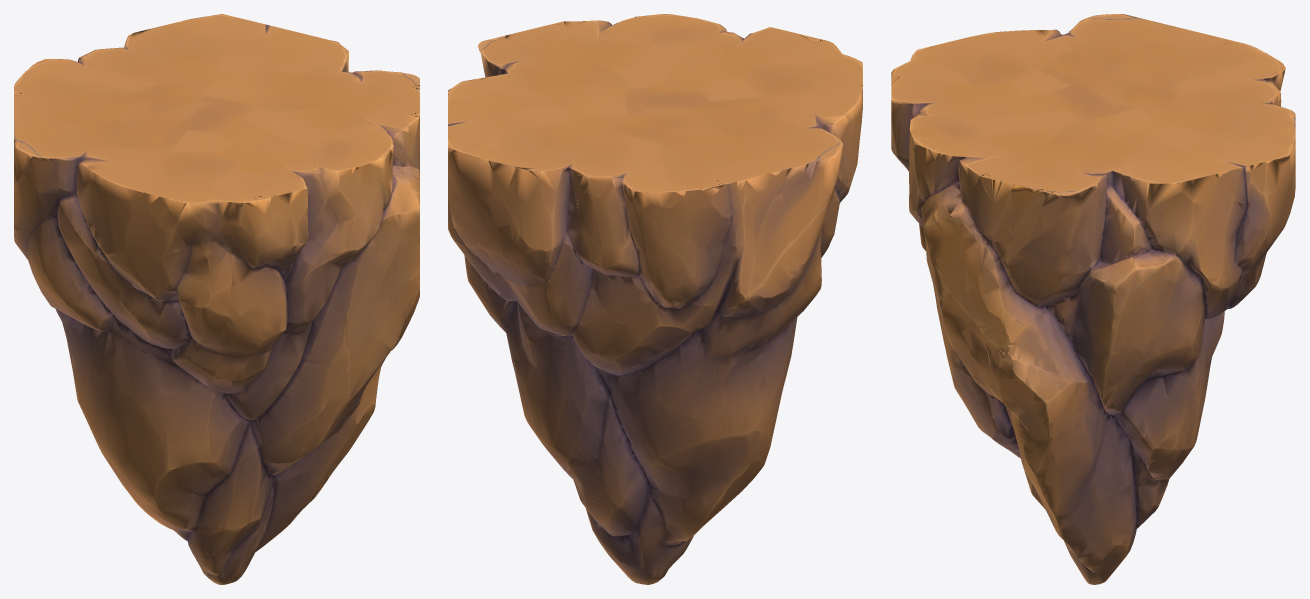
The model's file is rocha-inferior-avaliacao.glb.
The picture shows the model from 3 angles, left to right: view 1: azimuth 30°, elevation 25°; view 2: azimuth 150°, elevation 25°; view 3: azimuth 270°, elevation 25°; orthographic projection. The views are drawn at different scales.
Parts seen in each view (by area): view 1: rocha-inferior; view 2: rocha-inferior; view 3: rocha-inferior.
Part boxes in pixels (bbox=[...]): rocha-inferior: bbox=[14, 14, 419, 584]; rocha-inferior: bbox=[448, 14, 862, 584]; rocha-inferior: bbox=[891, 14, 1295, 584].
Size of the model in its own units: 1.69 by 2.05 by 1.59.
Materials: 1 (1 with a texture image).
